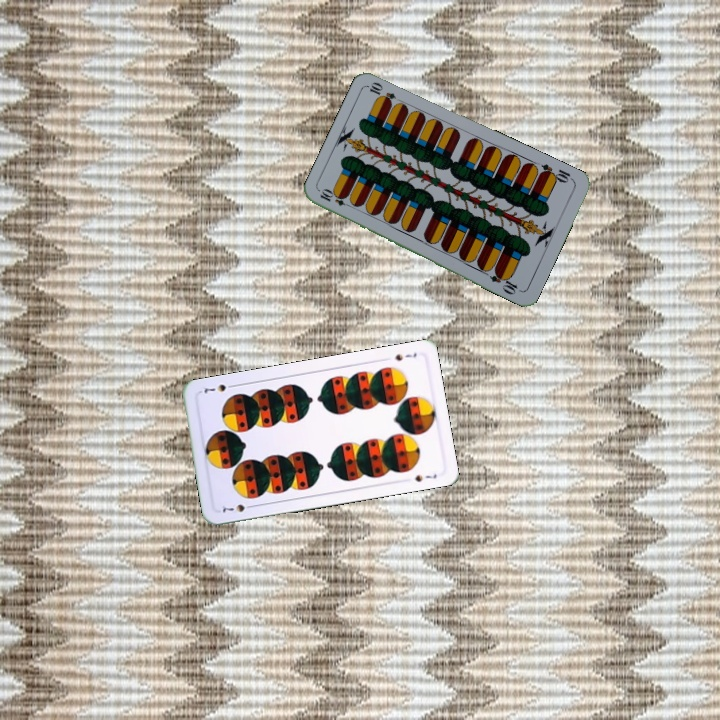E10: (536, 160, 576, 186), (316, 186, 355, 210)
S7: (218, 500, 257, 515), (391, 348, 419, 363)
